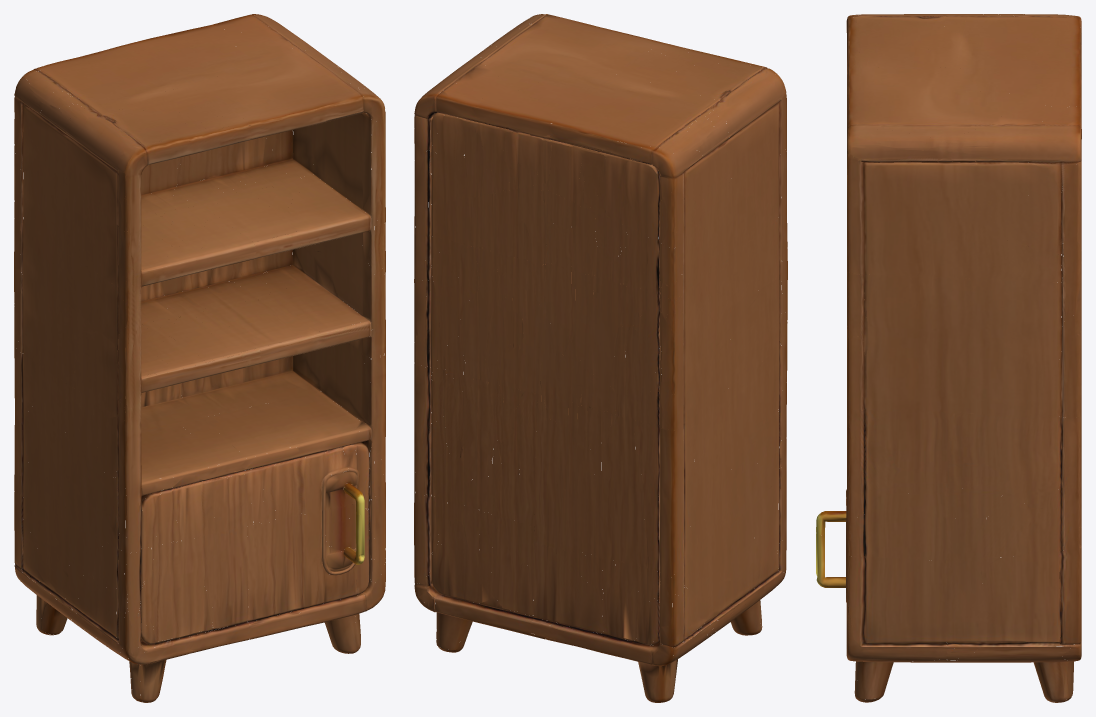
The model's file is cabinet.parts.glb.
3 renders of one model, left to right at view 1: azimuth 30°, elevation 25°; view 2: azimuth 150°, elevation 25°; view 3: azimuth 270°, elevation 25°, orthographic. The views are drawn at different scales.
Visible parts, largest first — view 1: body, door; view 2: body; view 3: body, door.
Boxes of the visible parts, x1=… form: body: x1=14, y1=14, x2=385, y2=702; door: x1=141, y1=440, x2=372, y2=653; body: x1=414, y1=14, x2=787, y2=702; body: x1=846, y1=14, x2=1081, y2=702; door: x1=816, y1=489, x2=846, y2=645.
Bounding box in the file's own units: 0.4793 × 0.9782 × 0.4078.
1 material, 1 textured.
